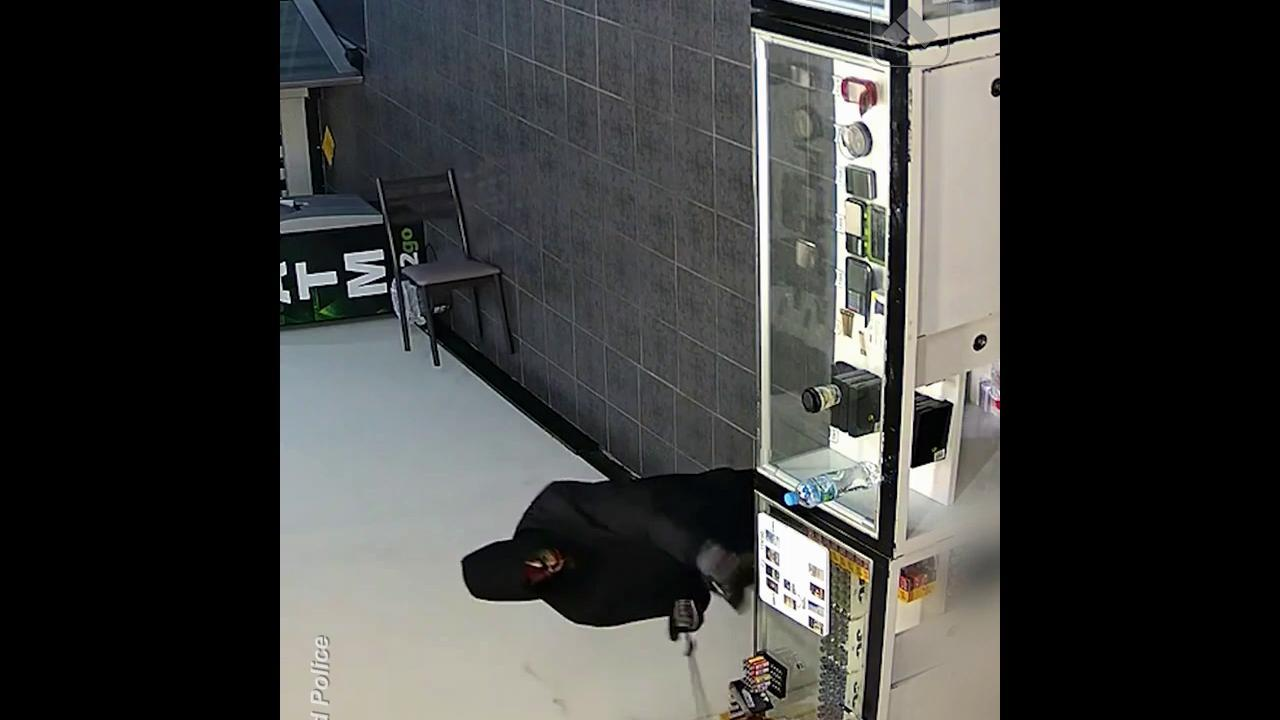melee: (685, 614, 726, 720)
